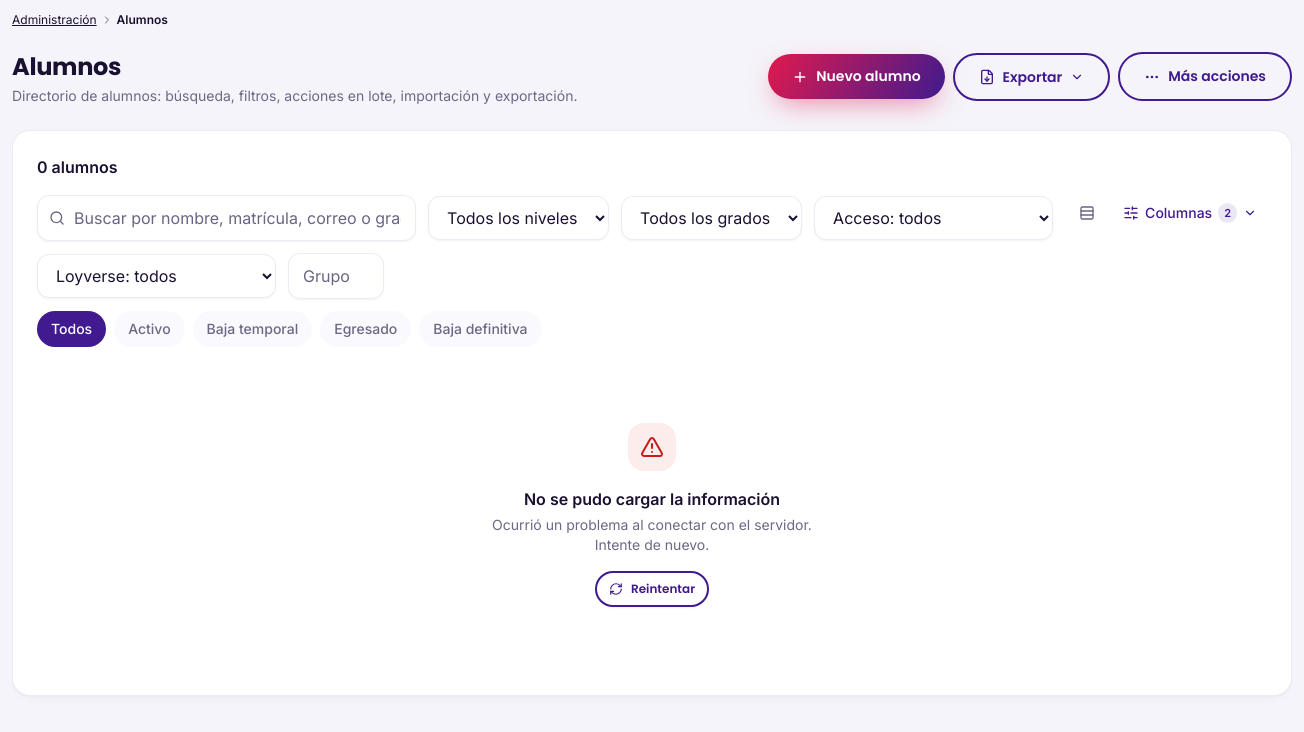
it: AdminStudents states › shows an error state (not "Sin alumnos") and recovers on retry
expect the text "No se pudo cargar la información" is shown: met, box [524,487,780,511]
expect the text "Sin alumnos" is not shown: met
What coordinates should you click on to do the following:
click the button "Reintentar"
I would click on:
 (652, 589)
Its box is [595,571,709,607].
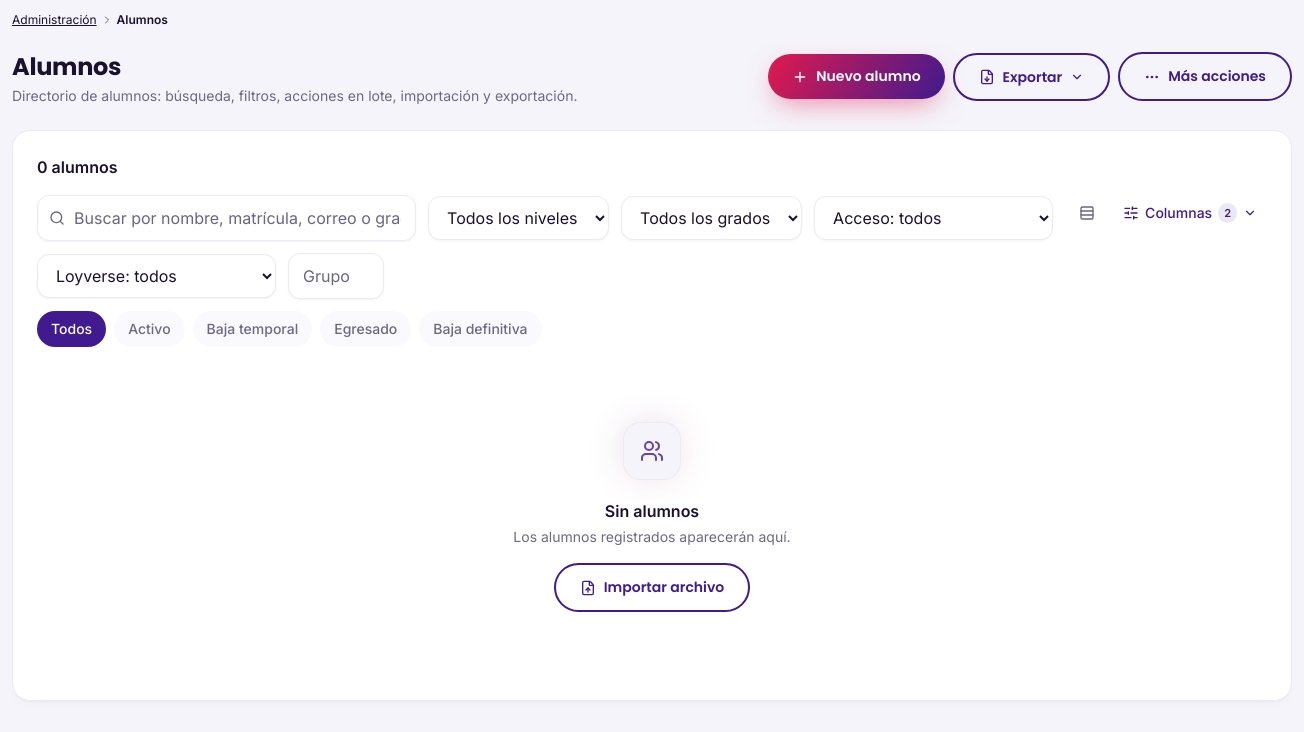
expect the heading "Sin alumnos" is shown: met, box [605,499,699,523]
expect the text "No se pudo cargar la información" is gone: met
